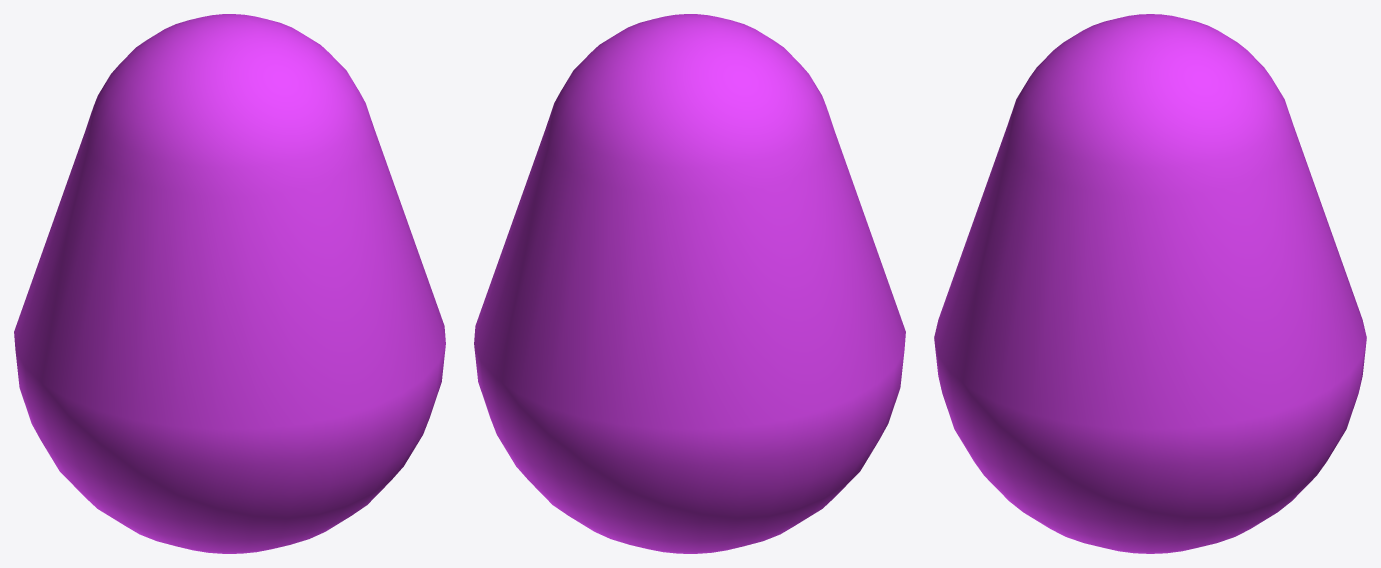
The model's file is Player.glb.
The picture shows the model from 3 angles, left to right: view 1: azimuth 30°, elevation 25°; view 2: azimuth 150°, elevation 25°; view 3: azimuth 270°, elevation 25°; orthographic projection.
Visible parts, largest first — view 1: Sphere.006; view 2: Sphere.006; view 3: Sphere.006.
Part boxes in pixels (x1,y1,x2,y2): Sphere.006: (14,14,445,553); Sphere.006: (474,14,905,553); Sphere.006: (934,14,1366,553).
Bounding box in the file's own units: 1.52 × 1.96 × 1.52.
